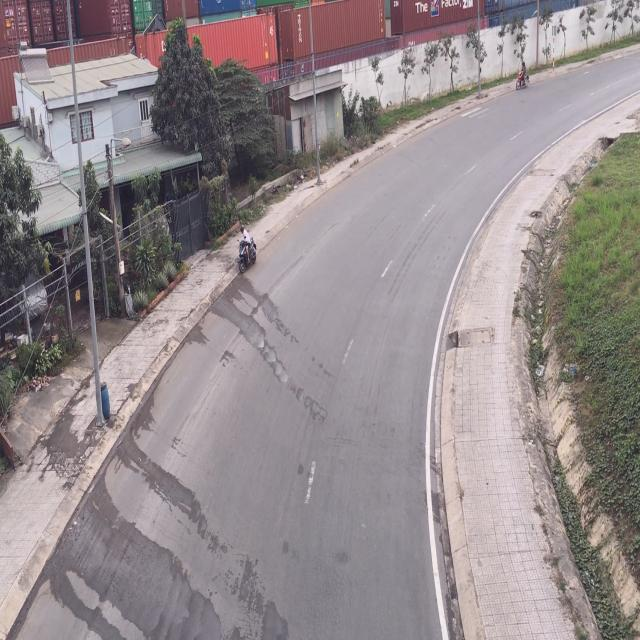motorbike: (237, 226, 258, 276), (514, 62, 531, 91)
